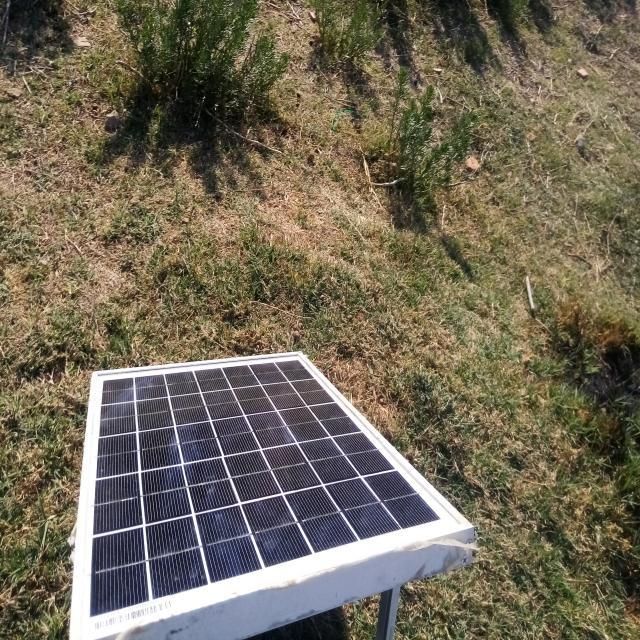no faulty: (70, 352, 471, 640)
